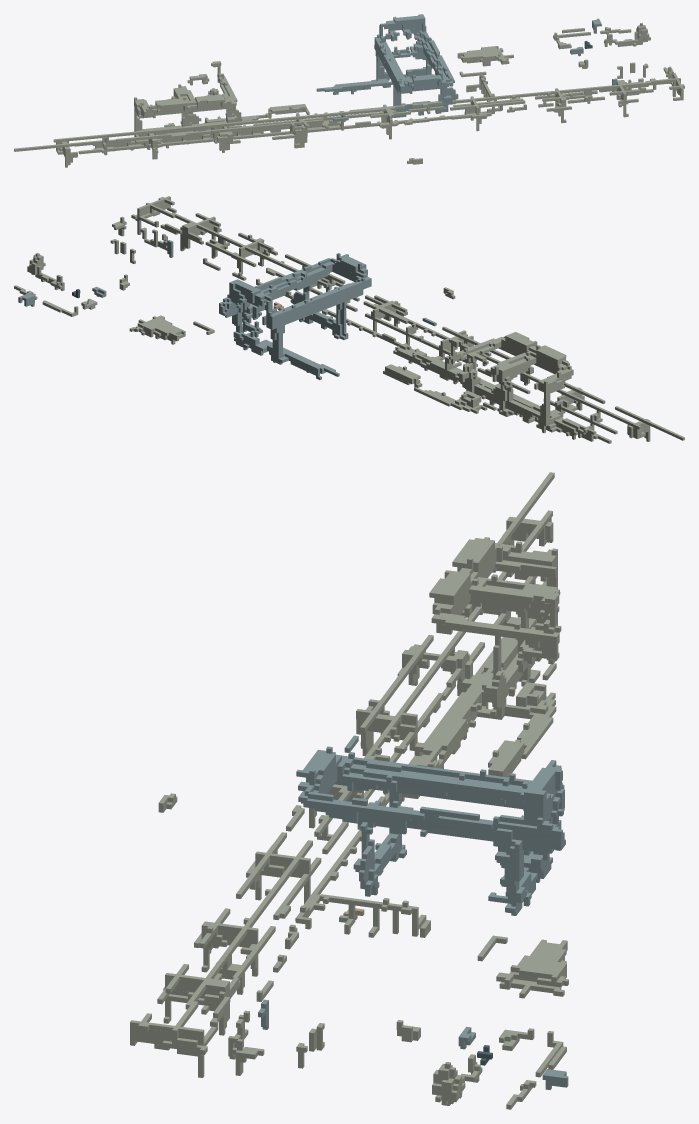
The picture shows the model from 3 angles, top to bottom: view 1: azimuth 30°, elevation 25°; view 2: azimuth 150°, elevation 25°; view 3: azimuth 270°, elevation 25°; orthographic projection. The views are drawn at different scales.
Visible parts, largest first — view 1: measured-industrial; view 2: measured-industrial; view 3: measured-industrial.
Part boxes in pixels (x1,y1,x2,y2): measured-industrial: [14, 14, 684, 167]; measured-industrial: [14, 196, 684, 443]; measured-industrial: [130, 472, 568, 1109].
Bounding box in the file's own units: 275 × 27.1 × 86.03.
